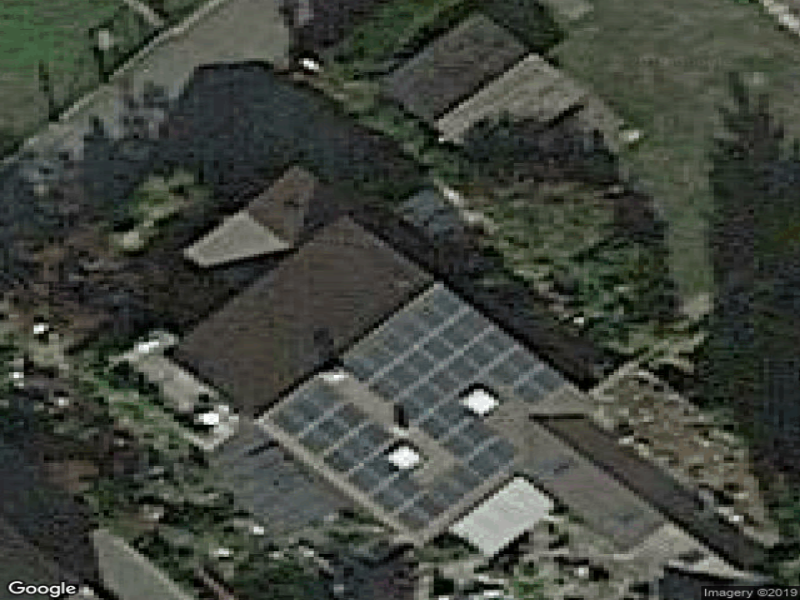pv: (269, 282, 564, 526)
